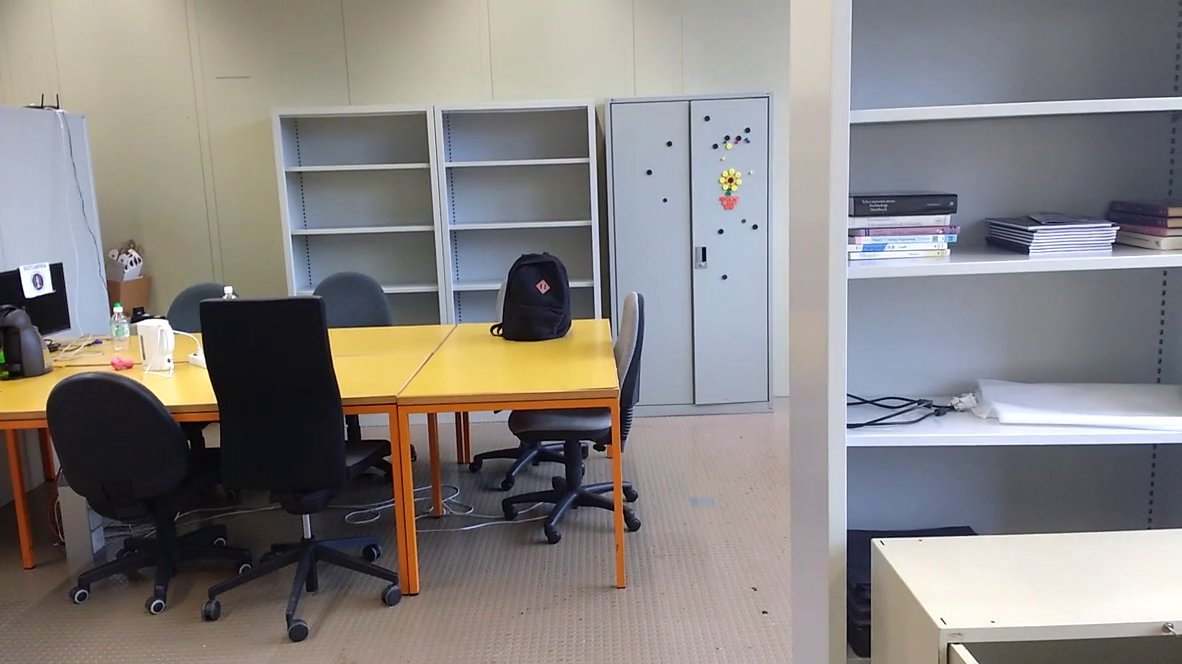bag: (485, 250, 579, 342)
chair: (188, 281, 423, 645), (41, 365, 248, 618), (494, 265, 656, 559), (296, 266, 396, 361)
